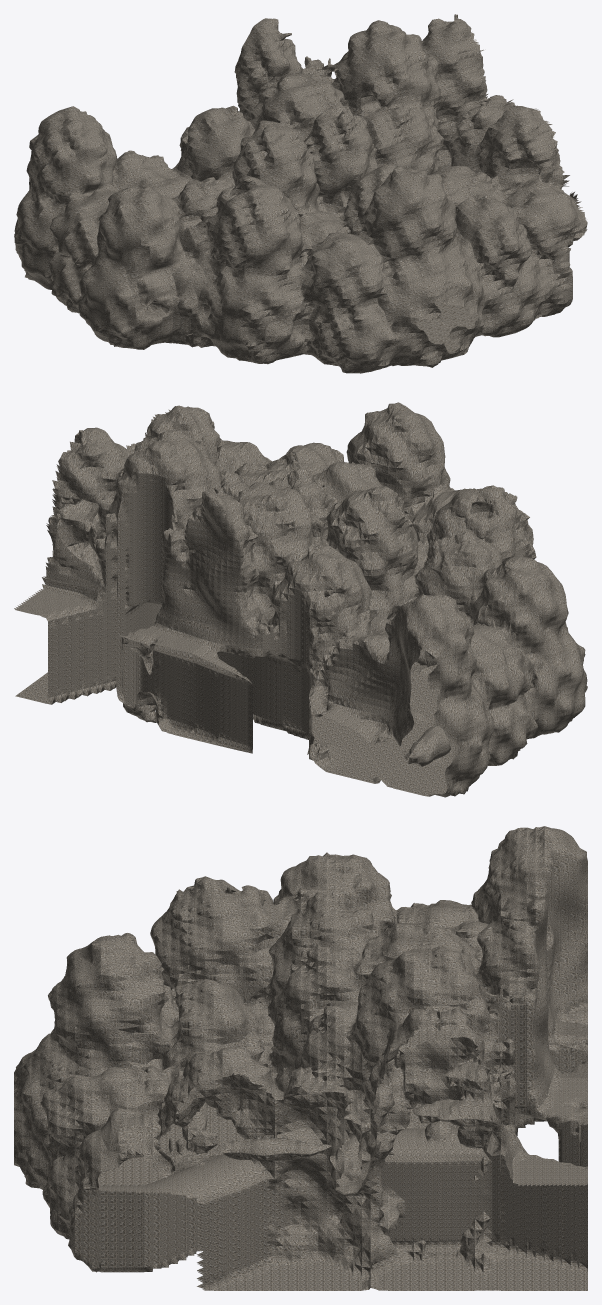
The model's file is taihu_rockery_4.glb.
3 renders of one model, top to bottom at view 1: azimuth 30°, elevation 25°; view 2: azimuth 150°, elevation 25°; view 3: azimuth 270°, elevation 25°, orthographic. The views are drawn at different scales.
Visible parts, largest first — view 1: taihu_rockery_40, taihu_rockery_41, taihu_rockery_47, taihu_rockery_43, taihu_rockery_45, taihu_rockery_42, taihu_rockery_44, taihu_rockery_46, taihu_rockery_49, taihu_rockery_410, taihu_rockery_48, taihu_rockery_411; view 2: taihu_rockery_40, taihu_rockery_43, taihu_rockery_41, taihu_rockery_45, taihu_rockery_47, taihu_rockery_44, taihu_rockery_46, taihu_rockery_49, taihu_rockery_42, taihu_rockery_48, taihu_rockery_410, taihu_rockery_411; view 3: taihu_rockery_410, taihu_rockery_49, taihu_rockery_411, taihu_rockery_46, taihu_rockery_47, taihu_rockery_45, taihu_rockery_48, taihu_rockery_41, taihu_rockery_40, taihu_rockery_43, taihu_rockery_44, taihu_rockery_42.
Part boxes in pixels (<box>): taihu_rockery_40: <box>14,106,241,356</box>; taihu_rockery_41: <box>20,106,341,363</box>; taihu_rockery_47: <box>236,18,540,367</box>; taihu_rockery_43: <box>107,89,424,373</box>; taihu_rockery_45: <box>181,18,483,373</box>; taihu_rockery_42: <box>104,130,341,363</box>; taihu_rockery_44: <box>179,94,423,373</box>; taihu_rockery_46: <box>235,18,483,367</box>; taihu_rockery_49: <box>304,14,586,336</box>; taihu_rockery_410: <box>393,15,587,318</box>; taihu_rockery_48: <box>305,20,540,337</box>; taihu_rockery_411: <box>397,16,587,319</box>; taihu_rockery_40: <box>375,552,587,796</box>; taihu_rockery_43: <box>229,428,536,783</box>; taihu_rockery_41: <box>309,486,568,797</box>; taihu_rockery_45: <box>156,402,459,752</box>; taihu_rockery_47: <box>116,402,432,742</box>; taihu_rockery_44: <box>231,430,462,753</box>; taihu_rockery_46: <box>155,403,434,747</box>; taihu_rockery_49: <box>16,406,343,722</box>; taihu_rockery_42: <box>309,485,535,783</box>; taihu_rockery_48: <box>116,430,343,722</box>; taihu_rockery_410: <box>14,406,269,704</box>; taihu_rockery_411: <box>16,405,271,704</box>; taihu_rockery_410: <box>56,974,587,1290</box>; taihu_rockery_49: <box>32,947,587,1290</box>; taihu_rockery_411: <box>56,974,587,1290</box>; taihu_rockery_46: <box>14,898,587,1189</box>; taihu_rockery_47: <box>14,898,587,1249</box>; taihu_rockery_45: <box>14,892,587,1188</box>; taihu_rockery_48: <box>31,945,587,1249</box>; taihu_rockery_41: <box>150,826,587,1117</box>; taihu_rockery_40: <box>274,826,587,1064</box>; taihu_rockery_43: <box>124,877,587,1161</box>; taihu_rockery_44: <box>130,892,587,1158</box>; taihu_rockery_42: <box>150,876,587,1117</box>.
Bounding box in the file's own units: 18.39 × 8.79 × 15.84.
1 material, 1 textured.
